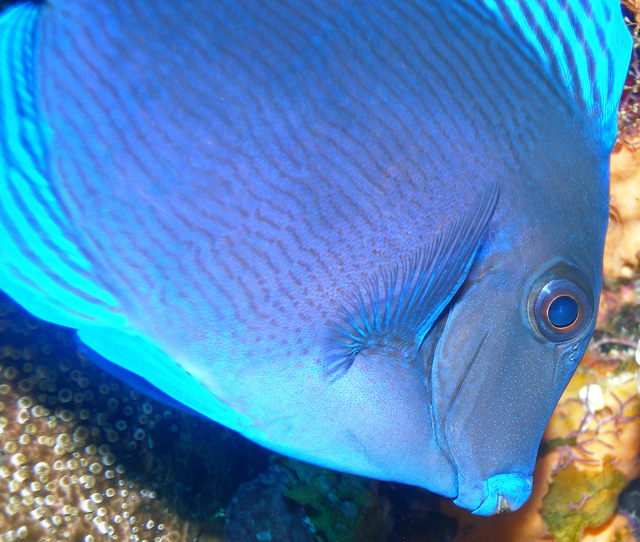Acanthurus_coeruleus: (1, 2, 633, 527)
